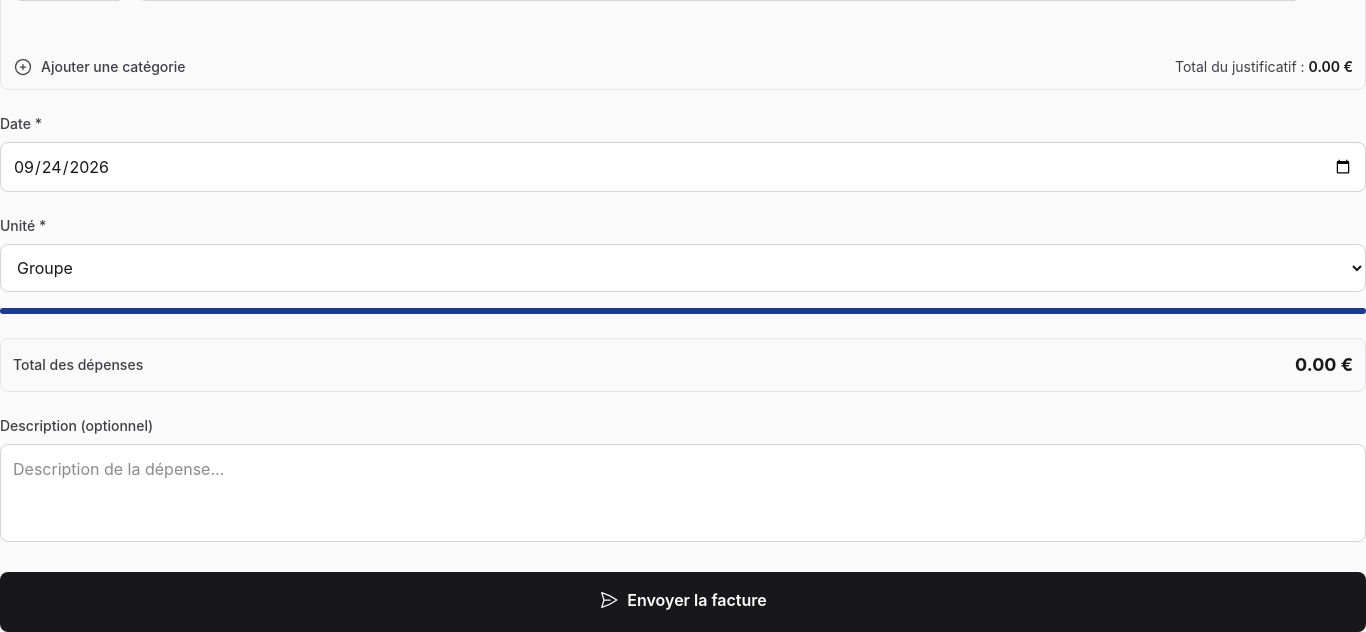
Scenario: FormulaireDepense › retire l’erreur d’un champ dès qu’il est corrigé
(page scrolled)
Click the button "Envoyer la facture" at coordinates (683, 602), box [0, 572, 1365, 631]
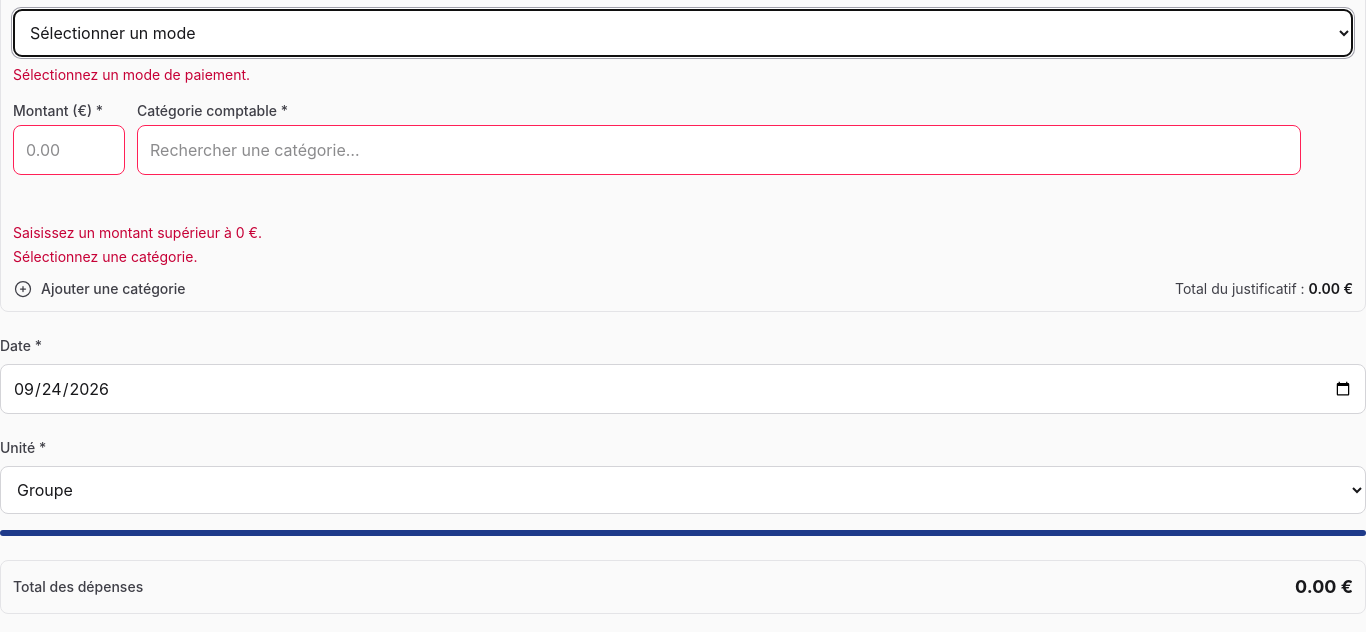
Check: the text "Sélectionnez un mode de paiement." is shown, box [13, 66, 250, 83]
Select "Carte bancaire" in the dropdown labelled "Mode de paiement *" at coordinates (683, 33), box [13, 9, 1353, 57]
(page scrolled)
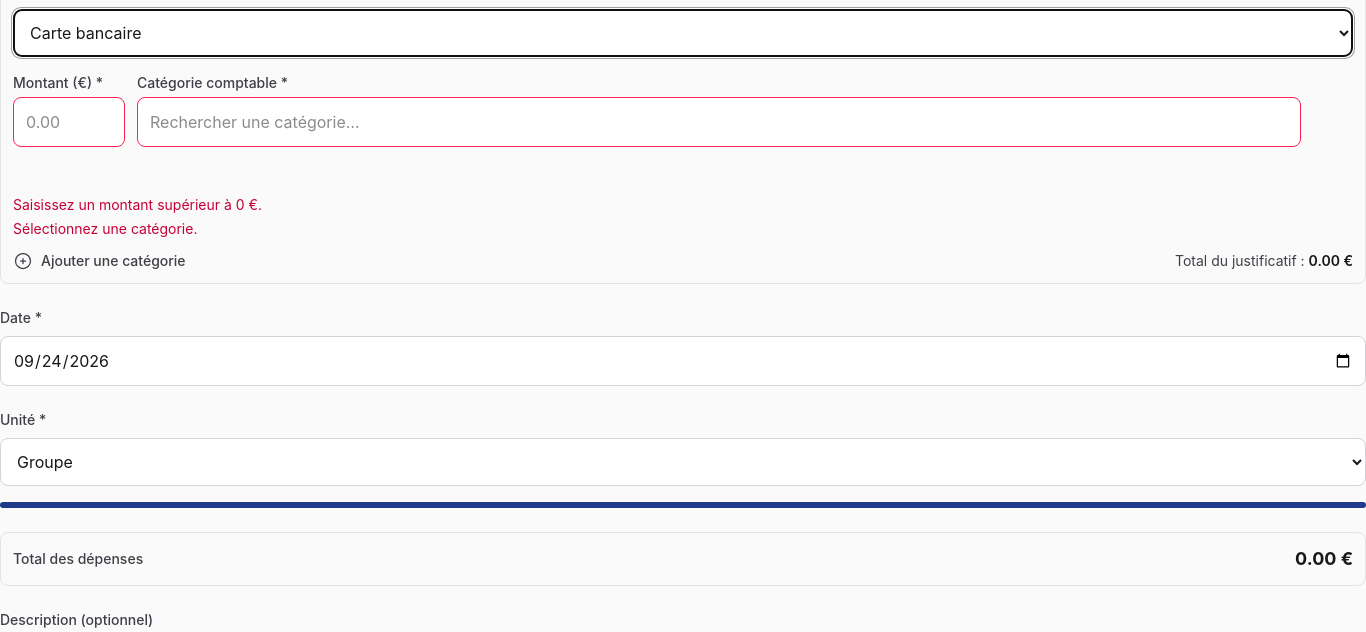
Check: the text "Saisissez un montant supérieur à 0 €." is shown, box [13, 196, 262, 213]
Check: the text "Sélectionnez une catégorie." is shown, box [13, 220, 198, 237]
Check: the text "Sélectionnez un mode de paiement." is gone
